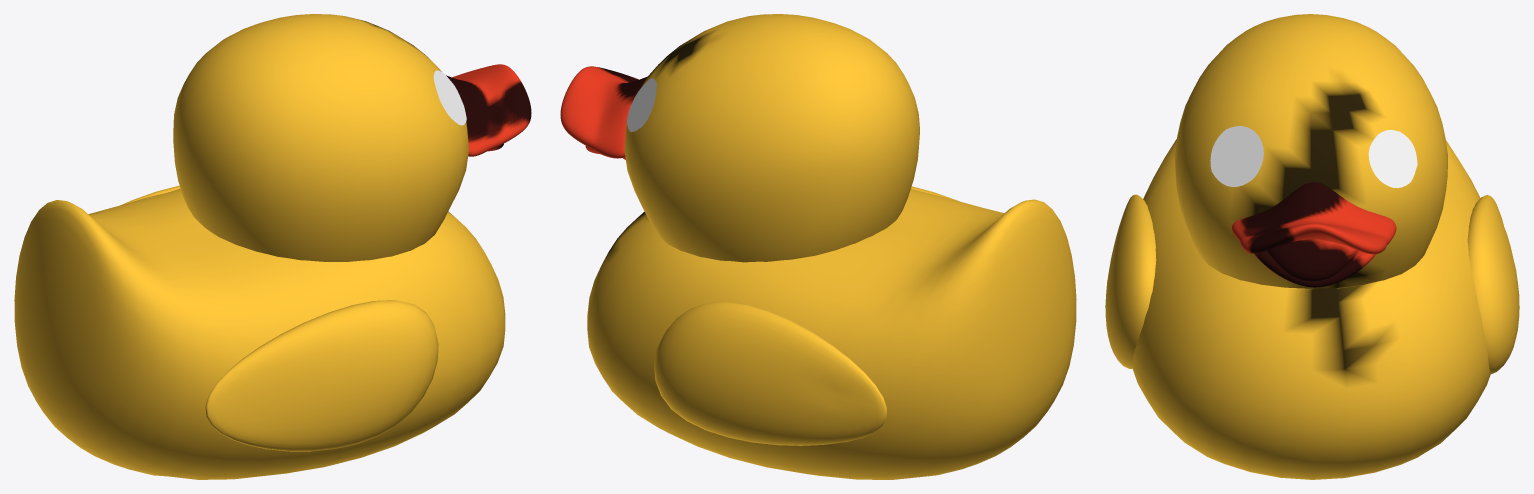
File: duck.fbx
3 views of the same model, side by side, from view 1: azimuth 30°, elevation 25°; view 2: azimuth 150°, elevation 25°; view 3: azimuth 270°, elevation 25° (orthographic).
Visible parts, largest first — view 1: Duck; view 2: Duck; view 3: Duck.
Part boxes in pixels (x1,y1,x2,y2): Duck: (14, 14, 531, 479); Duck: (560, 14, 1076, 479); Duck: (1105, 14, 1519, 479).
Bounding box in the file's own units: 105 × 87.55 × 79.8.
